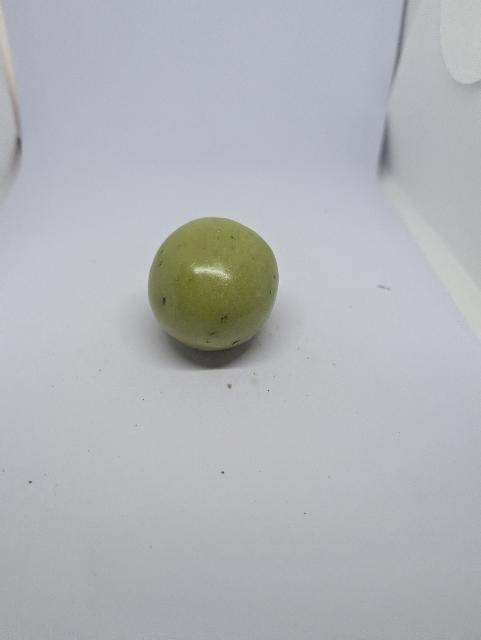green: (146, 213, 281, 353)
